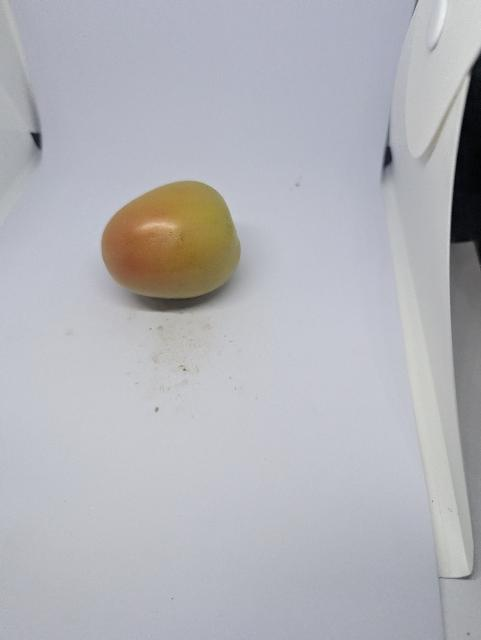breaker: (97, 175, 249, 311)
